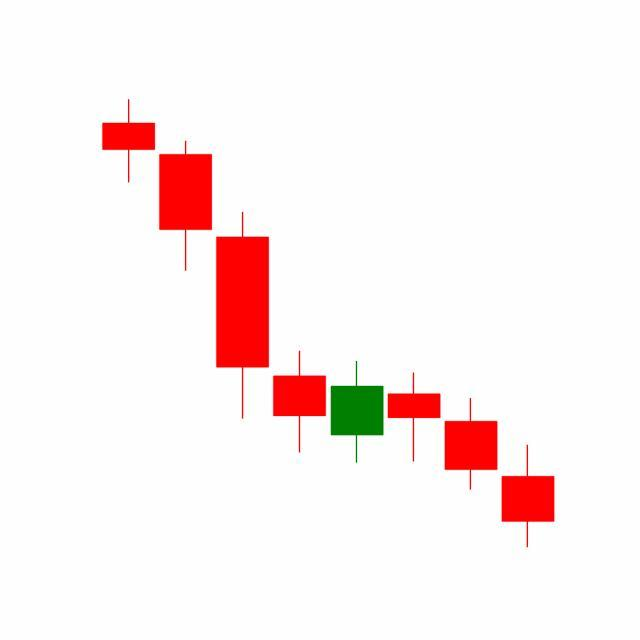Hikkake Pattern: (214, 210, 501, 494)
